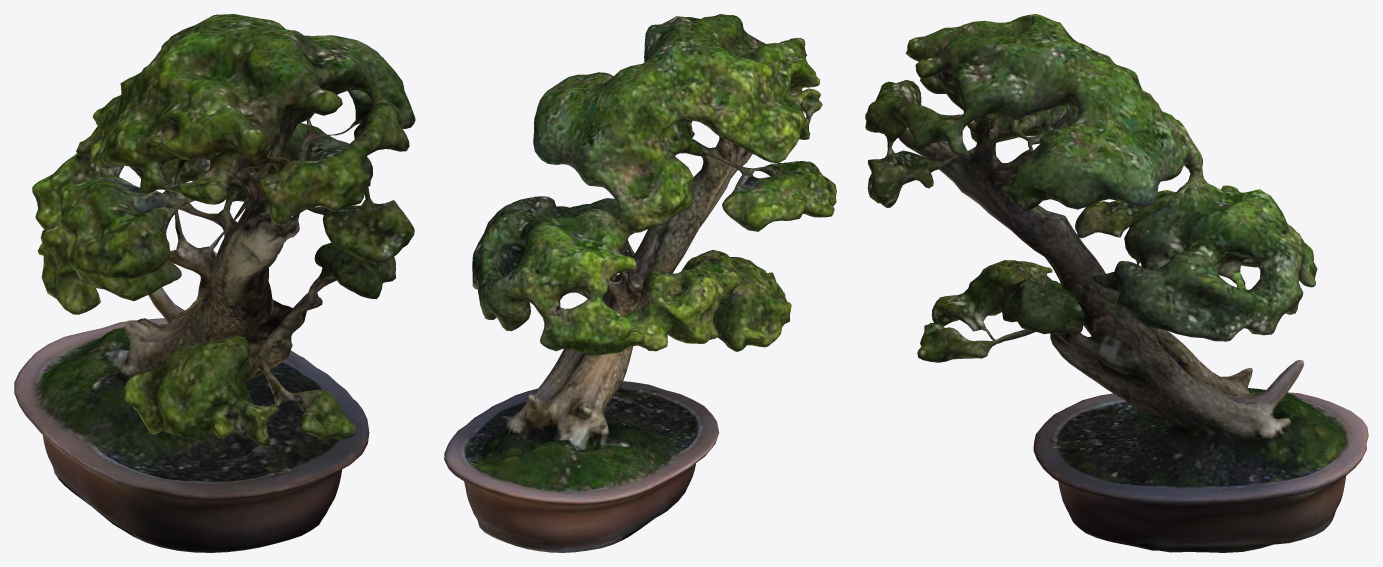
Rendered from bonsai.glb.
3 views of the same model, side by side, from view 1: azimuth 30°, elevation 25°; view 2: azimuth 150°, elevation 25°; view 3: azimuth 270°, elevation 25° (orthographic). The views are drawn at different scales.
Visible parts, largest first — view 1: Object_2; view 2: Object_2; view 3: Object_2.
Boxes of the visible parts, x1,y1,x2,y2 form: Object_2: [14, 14, 415, 552]; Object_2: [444, 14, 836, 552]; Object_2: [865, 14, 1368, 552].
Size of the model in its own units: 0.5911 by 0.8288 by 0.8288.
Materials: 1 (1 with a texture image).
